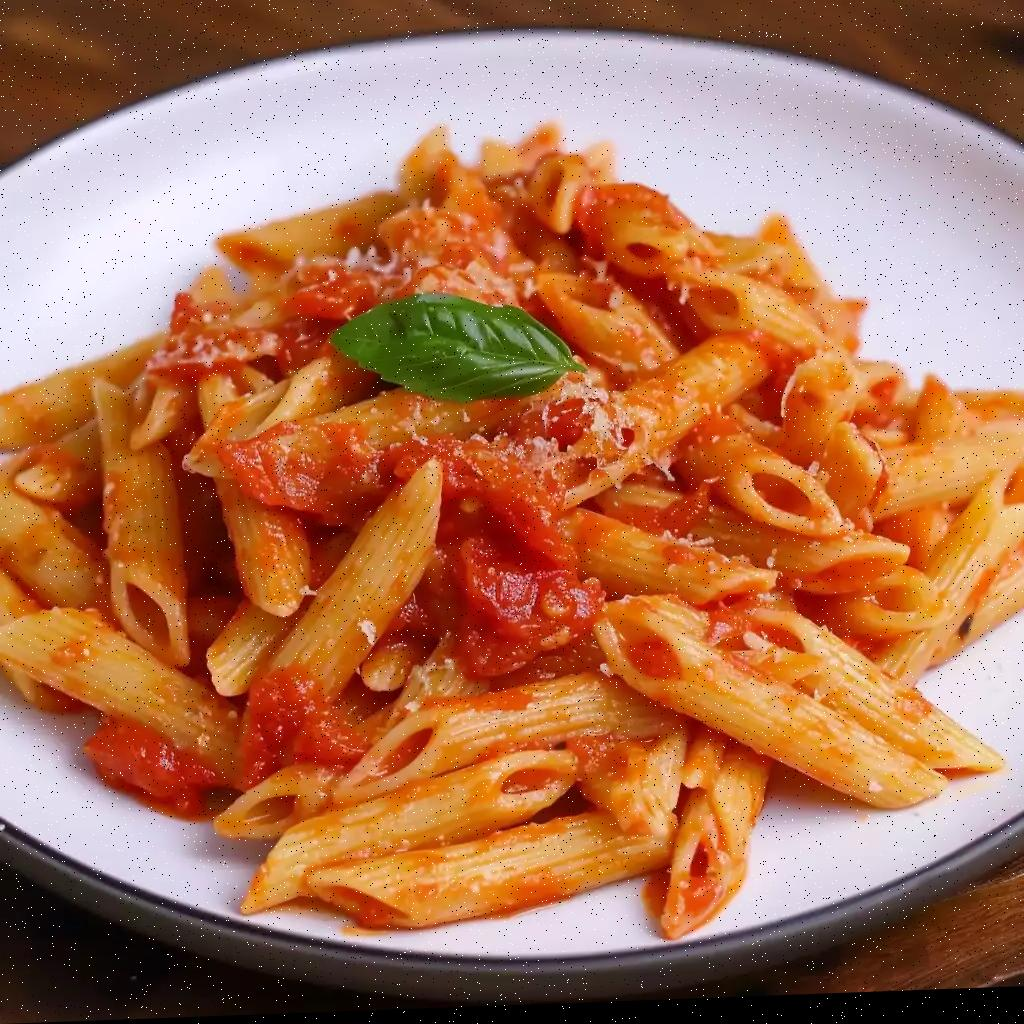pasta: (0, 124, 1023, 938)
